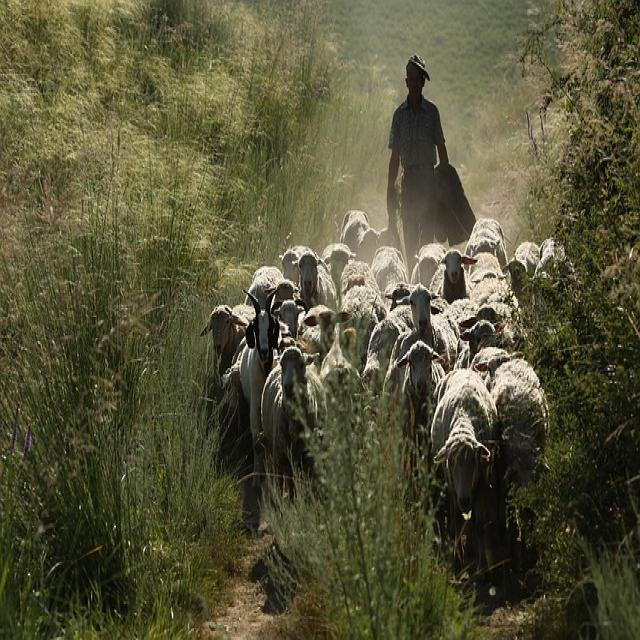goat: (431, 370, 531, 577), (259, 347, 327, 499), (228, 288, 293, 439), (207, 306, 255, 407), (443, 251, 474, 305)
